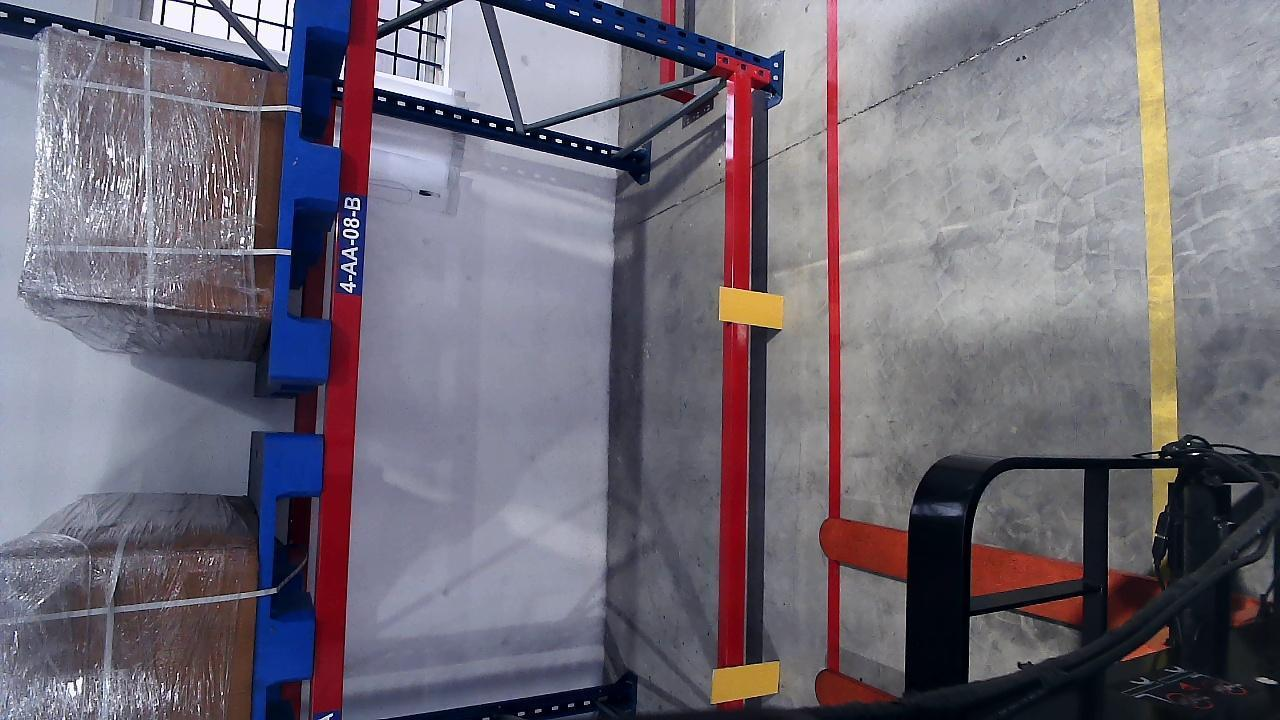red_line: (817, 0, 845, 671)
yellow_line: (1134, 0, 1181, 452)
